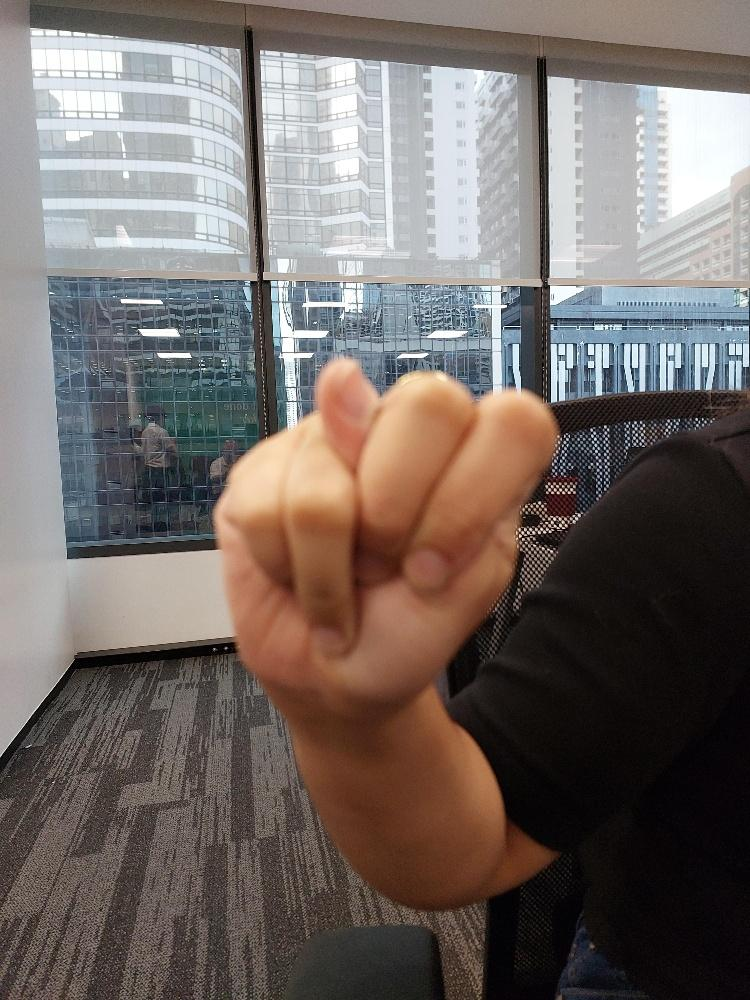n: (209, 351, 563, 720)
